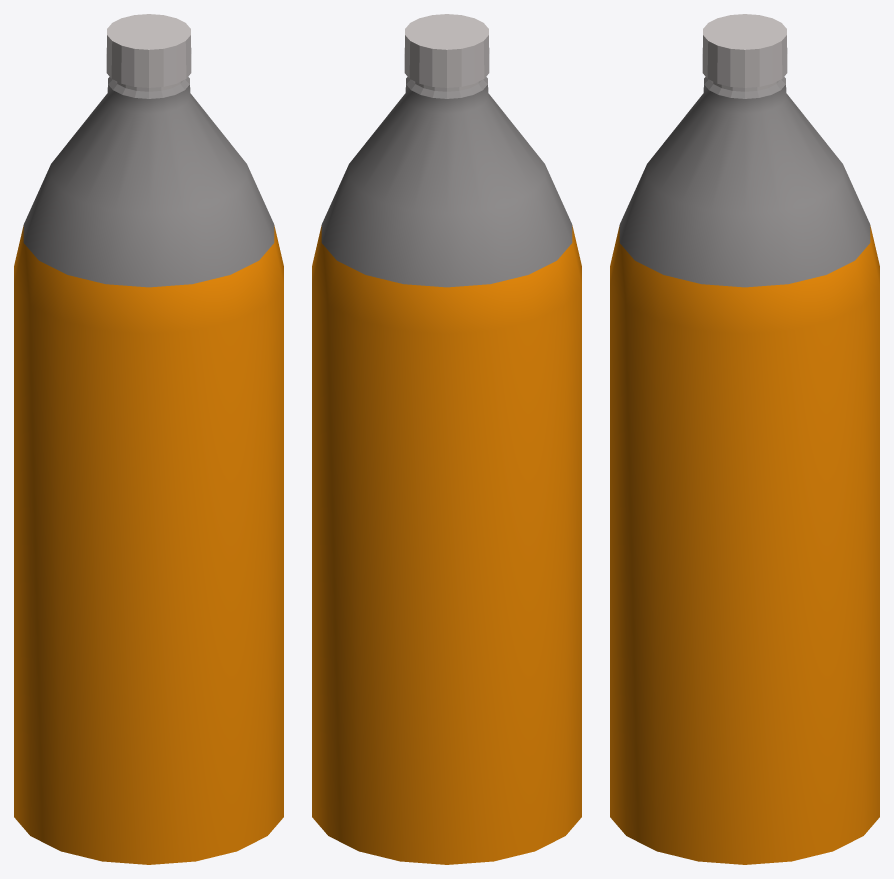
The model's file is opetbottle.FBX.
3 views of the same model, side by side, from view 1: azimuth 30°, elevation 25°; view 2: azimuth 150°, elevation 25°; view 3: azimuth 270°, elevation 25° (orthographic).
Parts seen in each view (by area): view 1: Cylinder001; view 2: Cylinder001; view 3: Cylinder001.
Boxes of the visible parts, x1,y1,x2,y2 form: Cylinder001: [14, 14, 283, 864]; Cylinder001: [312, 14, 581, 864]; Cylinder001: [610, 14, 879, 864].
Bounding box in the file's own units: 20.93 × 20.61 × 65.86.
3 materials, 3 textured.
